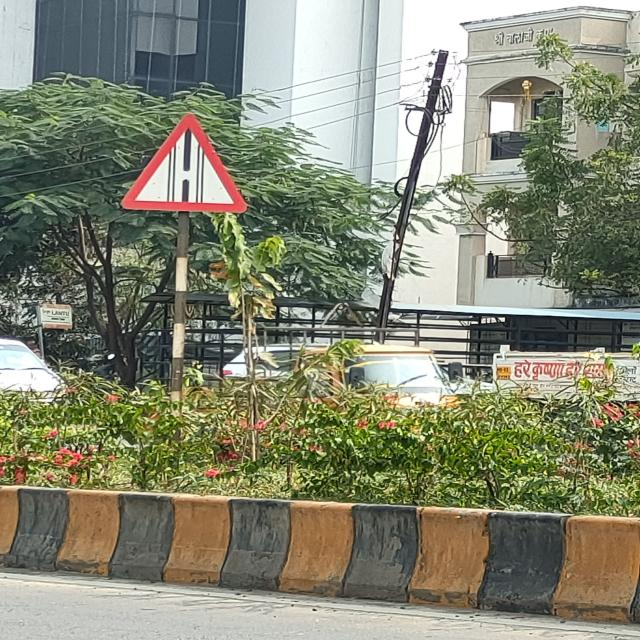ferry: (115, 113, 261, 212)
